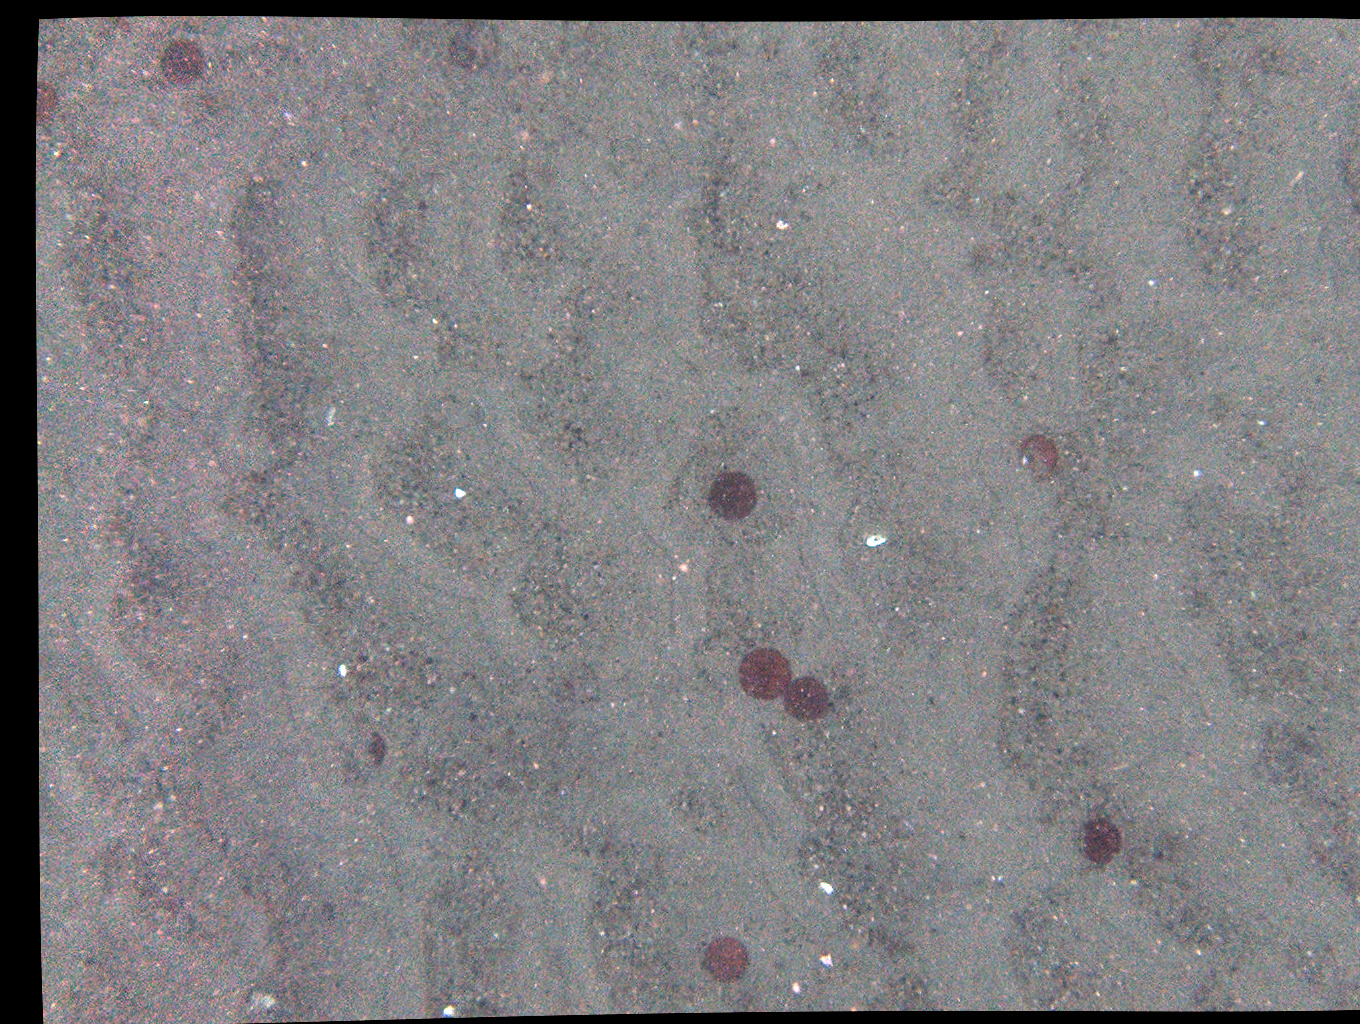Substrate B: (104, 49, 132, 74)
sand dollar: (155, 39, 212, 93), (447, 23, 504, 76), (703, 931, 760, 985), (704, 466, 761, 520), (1080, 817, 1137, 870), (739, 644, 796, 697), (787, 673, 839, 725), (1016, 433, 1069, 482), (353, 726, 403, 776), (35, 79, 76, 132)
